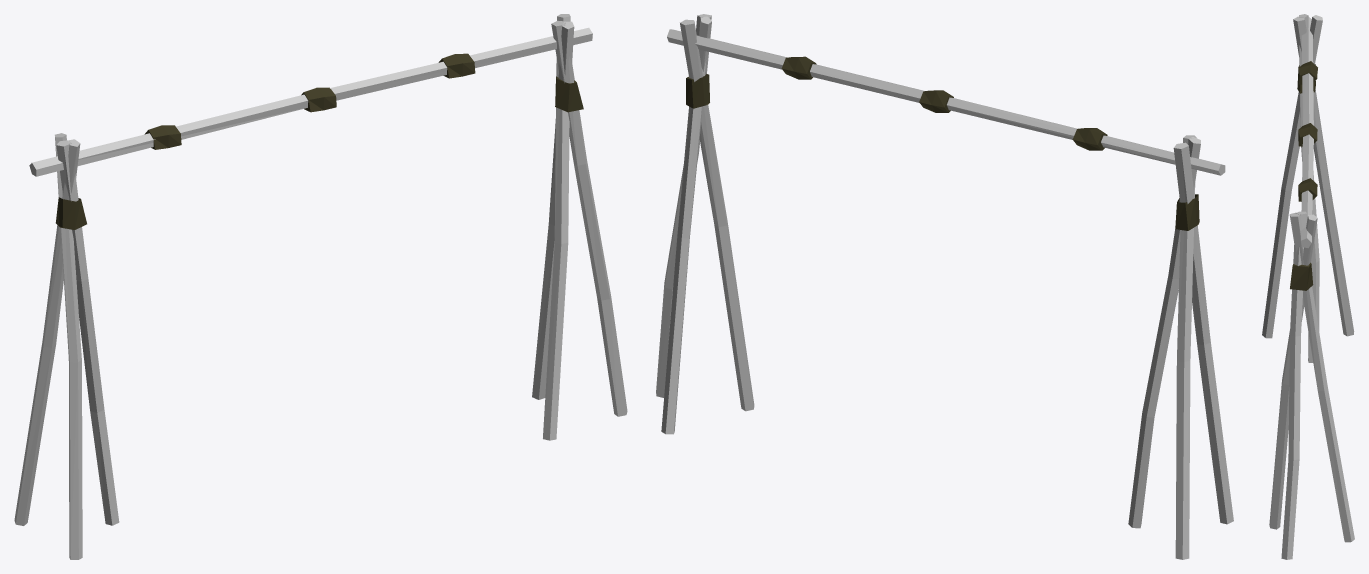
The model's file is OC_CHICKENSTICK_V01.OBJ.
3 renders of one model, left to right at view 1: azimuth 30°, elevation 25°; view 2: azimuth 150°, elevation 25°; view 3: azimuth 270°, elevation 25°, orthographic. The views are drawn at different scales.
Visible parts, largest first — view 1: OC_CHICKENSTICK_V01; view 2: OC_CHICKENSTICK_V01; view 3: OC_CHICKENSTICK_V01.
Boxes of the visible parts, x1,y1,x2,y2 form: OC_CHICKENSTICK_V01: [14, 14, 627, 559]; OC_CHICKENSTICK_V01: [656, 14, 1233, 559]; OC_CHICKENSTICK_V01: [1262, 14, 1354, 559].
Bounding box in the file's own units: 3.95 × 2.58 × 0.6682.
